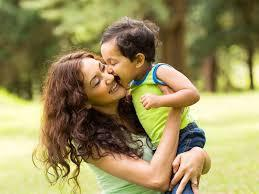Persons: (39, 35, 129, 127), (86, 14, 171, 82)
